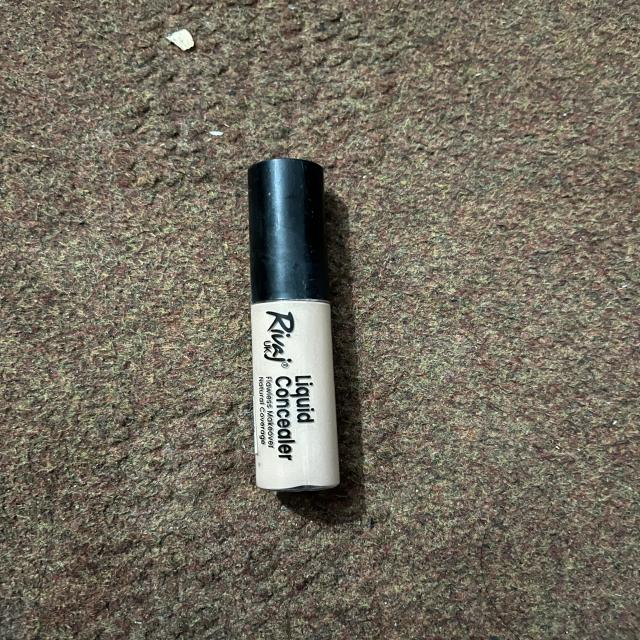foundation: (232, 124, 388, 504)
